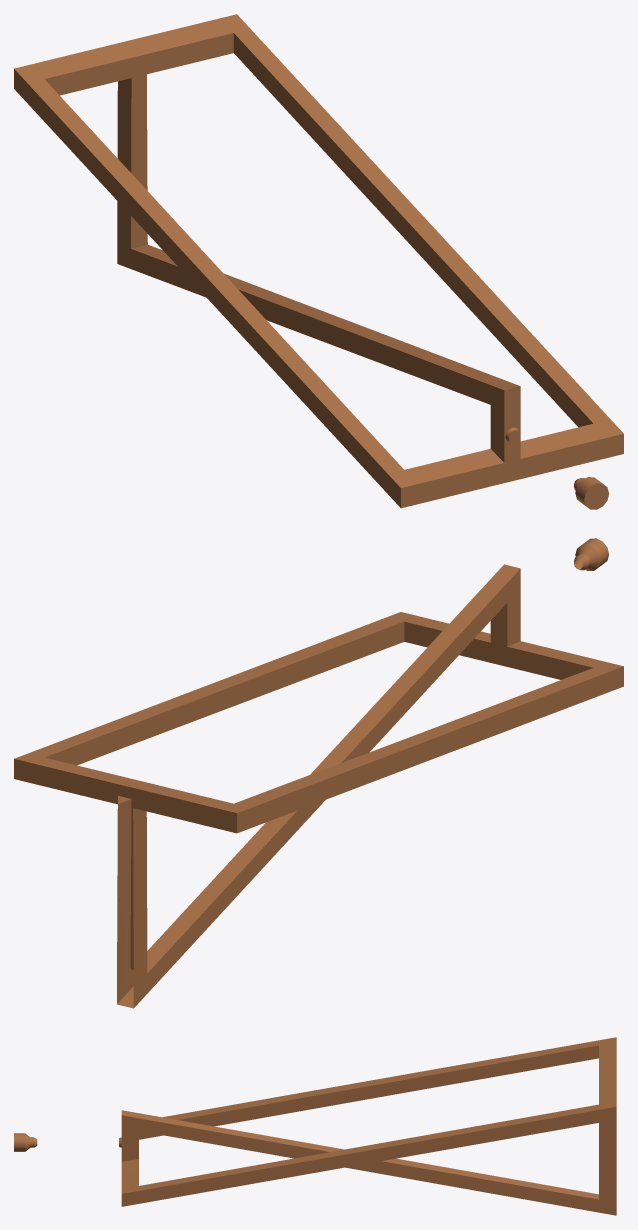
The model's file is MeshFloorLamp_25_0_GeomSubset_0.obj.
The picture shows the model from 3 angles, top to bottom: view 1: azimuth 30°, elevation 25°; view 2: azimuth 150°, elevation 25°; view 3: azimuth 270°, elevation 25°; orthographic projection. The views are drawn at different scales.
Visible parts, largest first — view 1: MeshFloorLamp_25_0_GeomSubset_0; view 2: MeshFloorLamp_25_0_GeomSubset_0; view 3: MeshFloorLamp_25_0_GeomSubset_0.
Boxes of the visible parts, x1,y1,x2,y2 form: MeshFloorLamp_25_0_GeomSubset_0: (14,14,623,509); MeshFloorLamp_25_0_GeomSubset_0: (14,538,623,1008); MeshFloorLamp_25_0_GeomSubset_0: (14,1037,616,1215).
Size of the model in its own units: 0.4568 by 0.4316 by 1.69.
